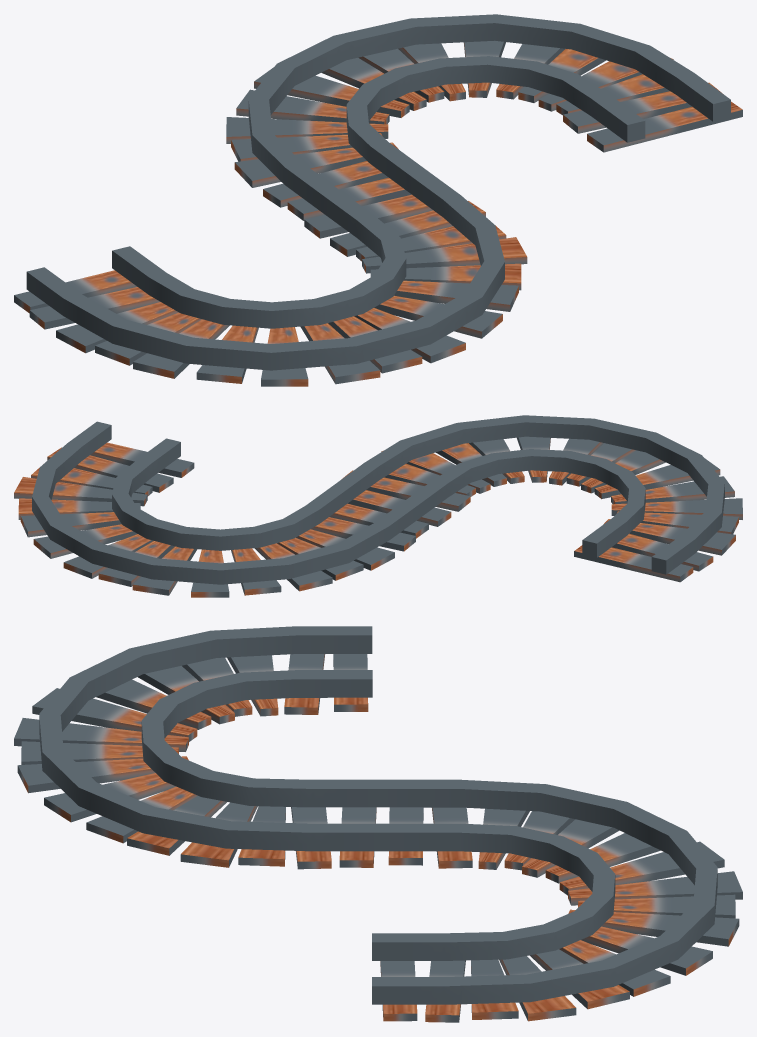
Rendered from long_turn_l_5.fbx.
3 renders of one model, top to bottom at view 1: azimuth 30°, elevation 25°; view 2: azimuth 150°, elevation 25°; view 3: azimuth 270°, elevation 25°, orthographic. The views are drawn at different scales.
Visible parts, largest first — view 1: long_turn_l_5; view 2: long_turn_l_5; view 3: long_turn_l_5.
Part boxes in pixels (x1,y1,x2,y2): long_turn_l_5: (14,14,742,386); long_turn_l_5: (14,415,742,597); long_turn_l_5: (14,626,742,1022).
Size of the model in its own units: 64.33 by 2.08 by 52.11.
